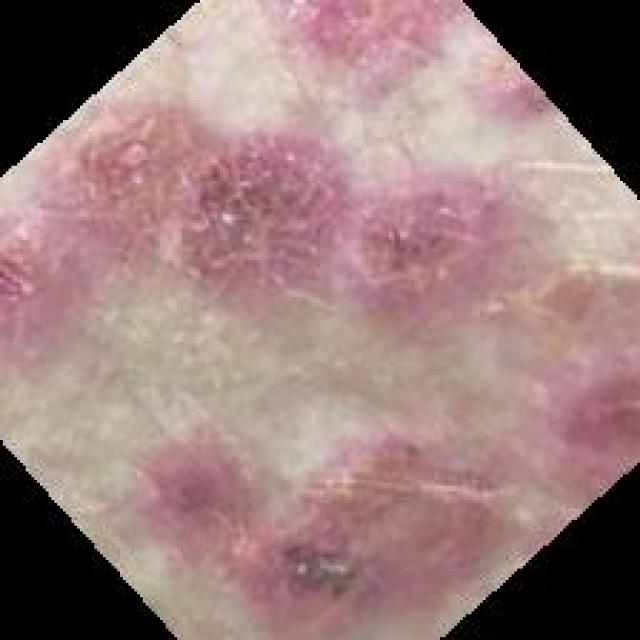monkeypox: (1, 38, 634, 620)
